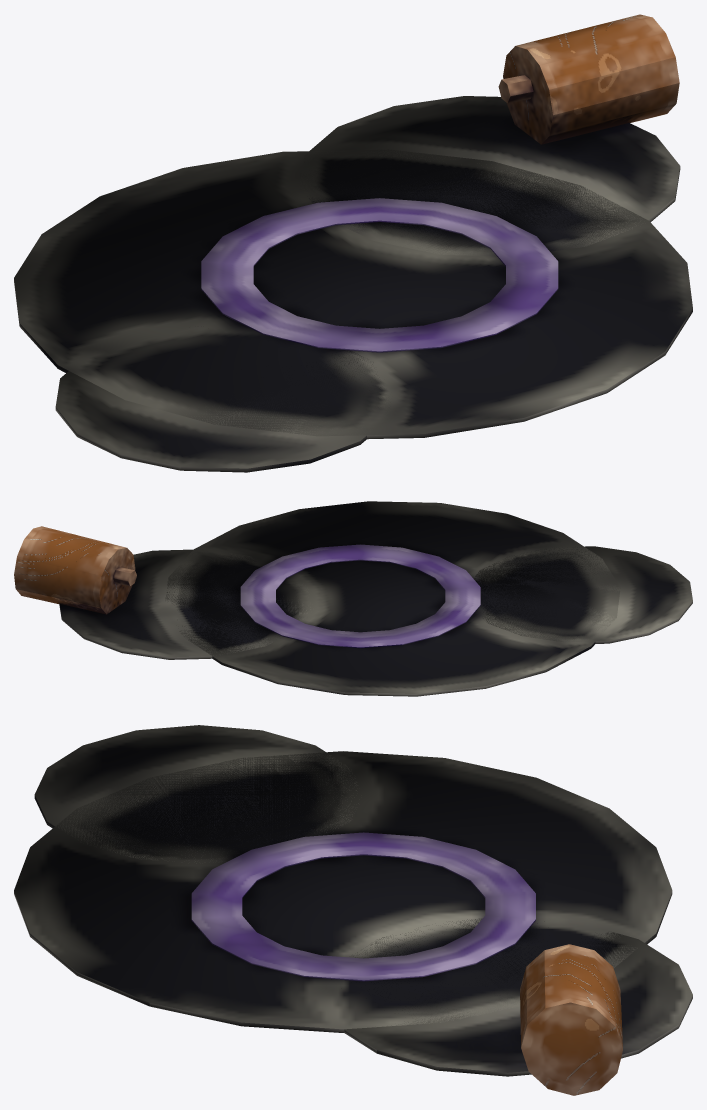
Rendered from OilPuddle.glb.
The picture shows the model from 3 angles, top to bottom: view 1: azimuth 30°, elevation 25°; view 2: azimuth 150°, elevation 25°; view 3: azimuth 270°, elevation 25°; orthographic projection. The views are drawn at different scales.
Parts seen in each view (by area): view 1: Slick, Sheen, Can; view 2: Slick, Sheen, Can; view 3: Slick, Sheen, Can.
Boxes of the visible parts, bbox=[...] form: Slick: bbox=[14, 96, 692, 472]; Sheen: bbox=[201, 198, 558, 352]; Can: bbox=[498, 14, 679, 144]; Slick: bbox=[59, 501, 692, 696]; Sheen: bbox=[240, 544, 480, 648]; Can: bbox=[14, 526, 136, 614]; Slick: bbox=[14, 725, 692, 1076]; Sheen: bbox=[191, 832, 535, 981]; Can: bbox=[520, 944, 622, 1095].
Size of the model in its own units: 4.17 by 0.4946 by 3.3.
3 materials, 3 textured.
